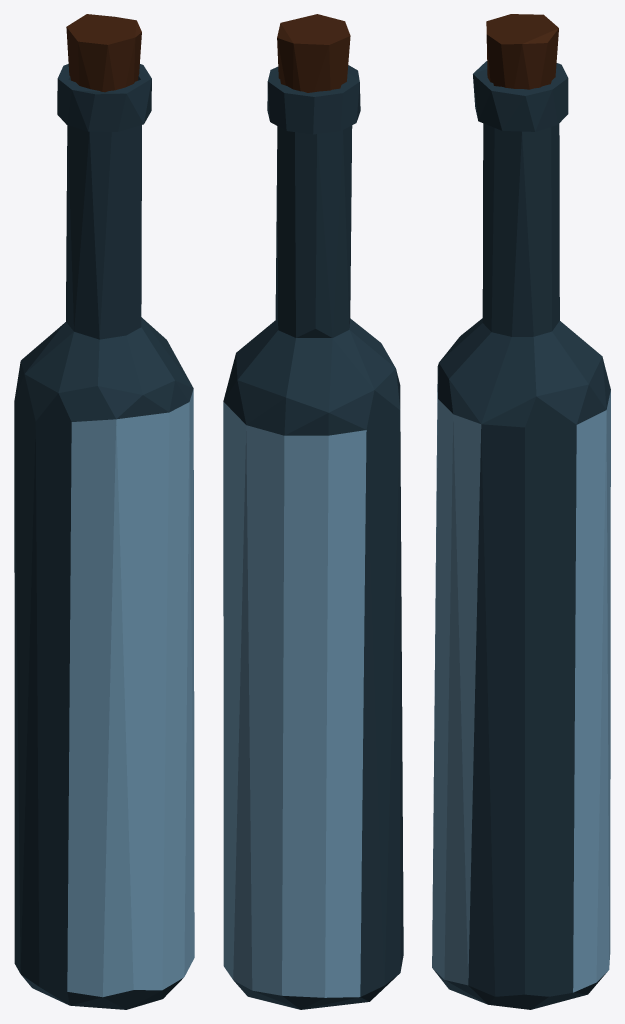
File: Bottle02.fbx
3 renders of one model, left to right at view 1: azimuth 30°, elevation 25°; view 2: azimuth 150°, elevation 25°; view 3: azimuth 270°, elevation 25°, orthographic.
Parts seen in each view (by area): view 1: Bottle02LowPoly; view 2: Bottle02LowPoly; view 3: Bottle02LowPoly.
Boxes of the visible parts, x1=… form: Bottle02LowPoly: x1=14, y1=14, x2=194, y2=1009; Bottle02LowPoly: x1=223, y1=14, x2=403, y2=1009; Bottle02LowPoly: x1=432, y1=14, x2=610, y2=1009.
Size of the model in its own units: 5.42 by 31.54 by 5.38.
